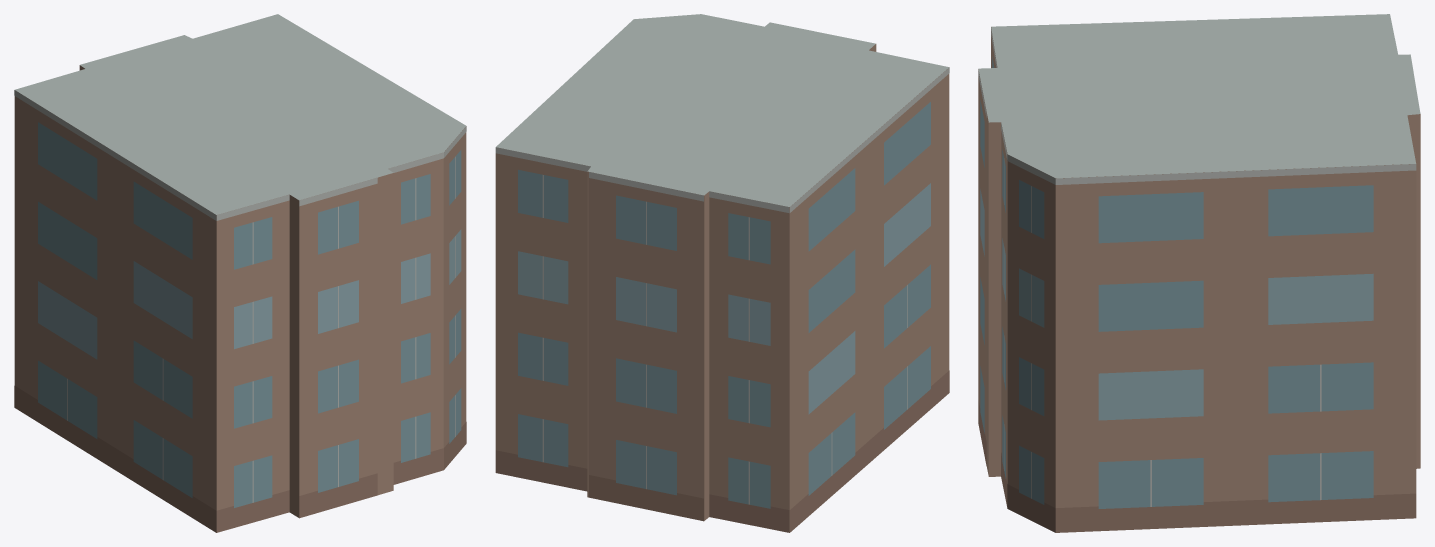
The model's file is survey-upis-32781210.glb.
The picture shows the model from 3 angles, left to right: view 1: azimuth 30°, elevation 25°; view 2: azimuth 150°, elevation 25°; view 3: azimuth 270°, elevation 25°; orthographic projection. The views are drawn at different scales.
Parts seen in each view (by area): view 1: survey-upis-32781210.tmp; view 2: survey-upis-32781210.tmp; view 3: survey-upis-32781210.tmp.
Boxes of the visible parts, x1,y1,x2,y2 form: survey-upis-32781210.tmp: (14, 14, 466, 532); survey-upis-32781210.tmp: (495, 14, 949, 532); survey-upis-32781210.tmp: (978, 14, 1420, 532).
Bounding box in the file's own units: 12.89 × 12.95 × 14.65.
